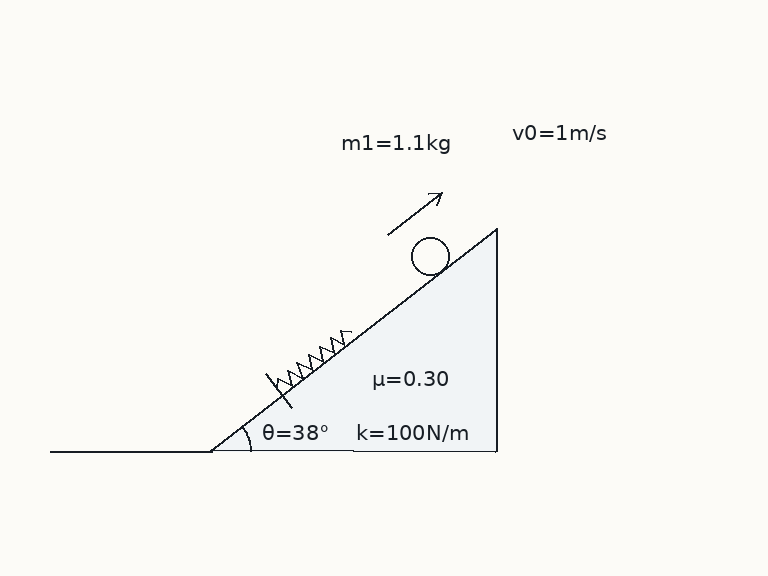ball: (409, 235, 451, 277)
ramp: (209, 227, 497, 453)
spring: (275, 327, 353, 390)
